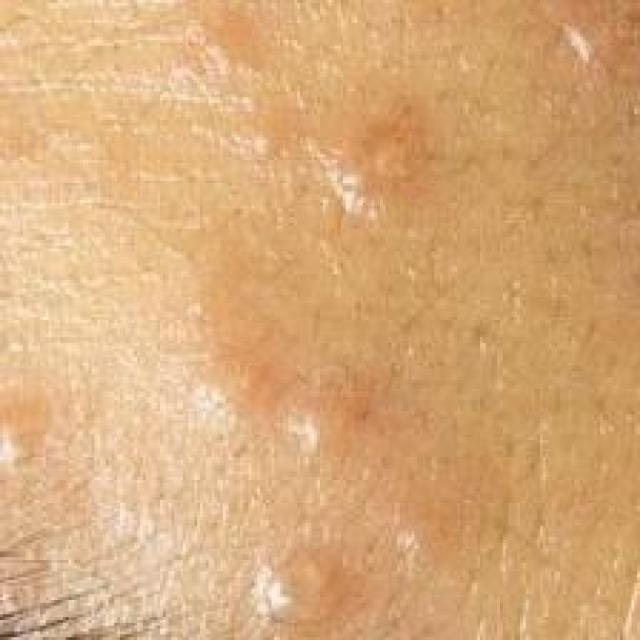others: (5, 29, 591, 640)
